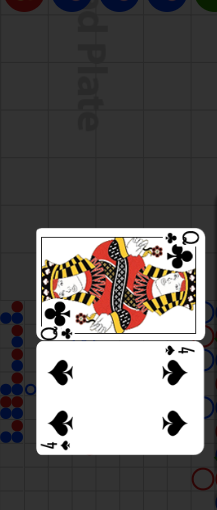4S: (162, 344, 196, 357)
QC: (36, 295, 83, 339), (157, 228, 203, 272)
